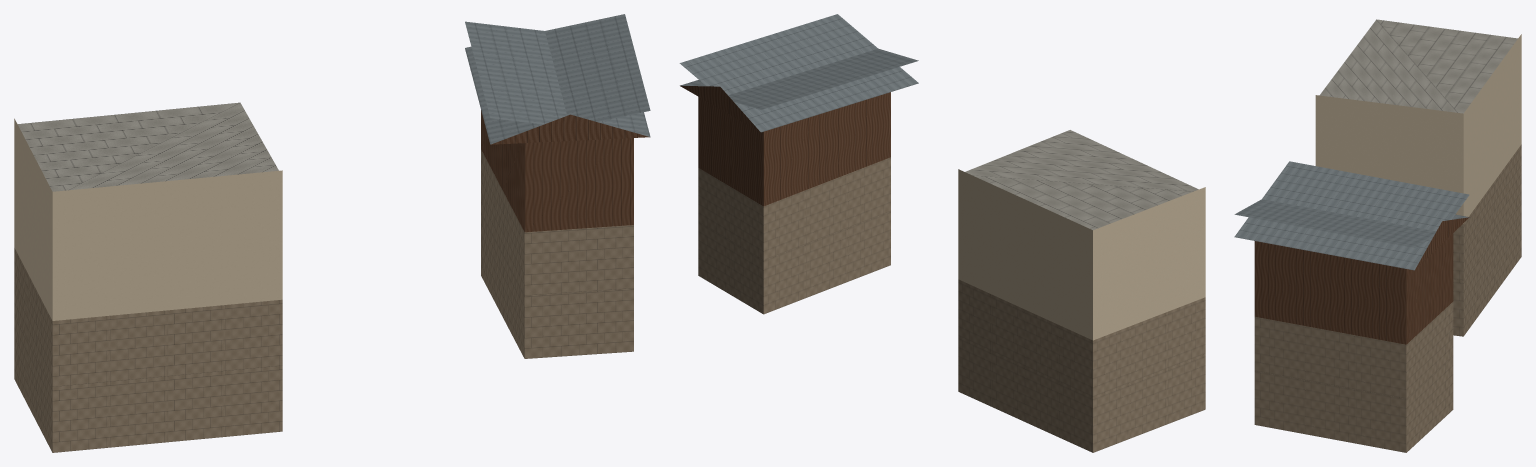
File: bld_c8_7_503.gltf
3 renders of one model, left to right at view 1: azimuth 30°, elevation 25°; view 2: azimuth 150°, elevation 25°; view 3: azimuth 270°, elevation 25°, orthographic. The views are drawn at different scales.
Visible parts, largest first — view 1: bld_c8_7_503; view 2: bld_c8_7_503; view 3: bld_c8_7_503.
Boxes of the visible parts, <box> form: bld_c8_7_503: <box>14,14,650,452</box>; bld_c8_7_503: <box>679,14,1205,452</box>; bld_c8_7_503: <box>1234,19,1521,452</box>.
Size of the model in its own units: 23.54 by 10.5 by 11.54.
7 materials, 7 textured.
